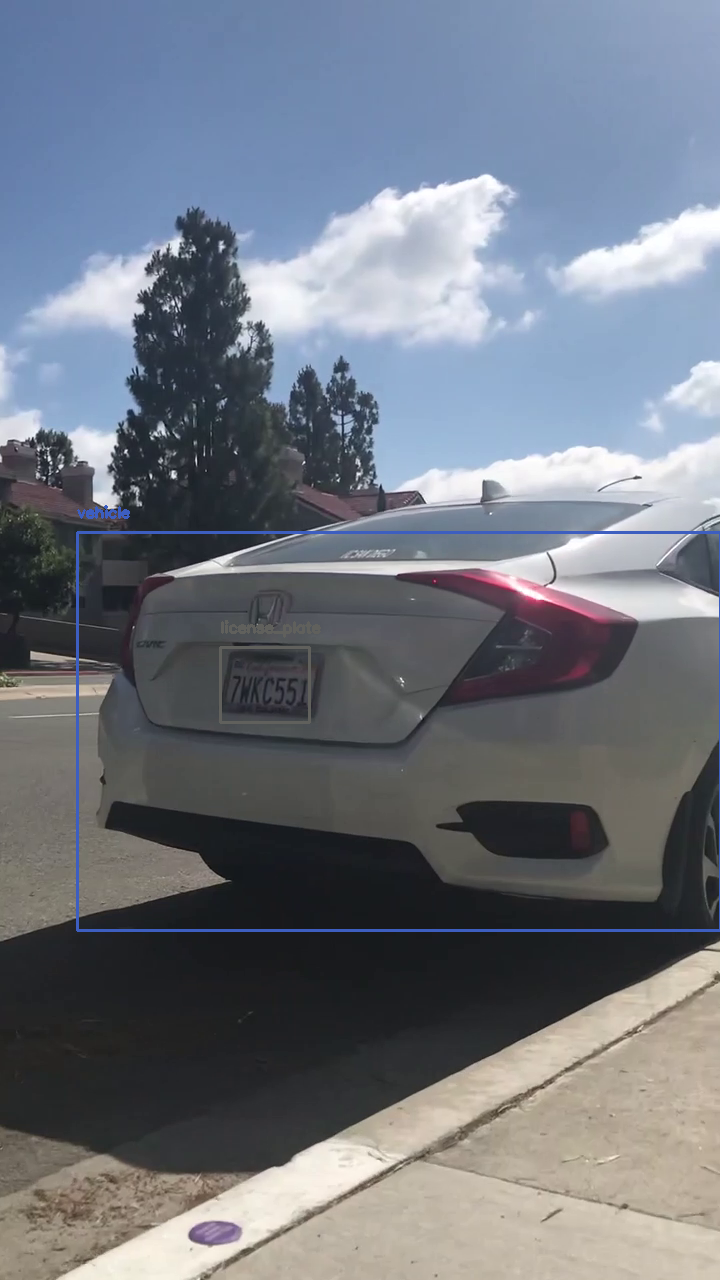license_plate: (220, 647, 309, 722)
vehicle: (77, 532, 720, 930)
